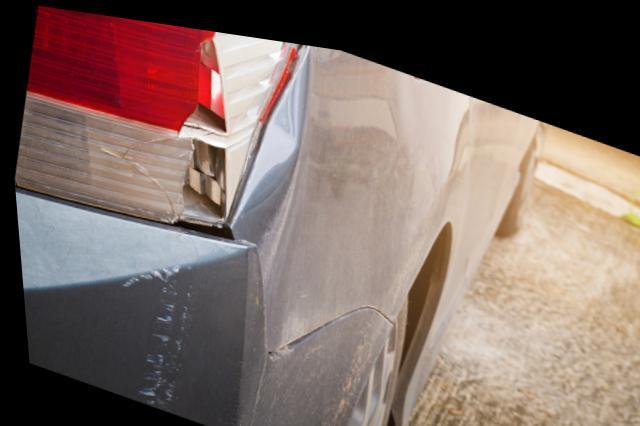lamp broken: (11, 4, 306, 222)
scratch: (114, 258, 193, 408)
